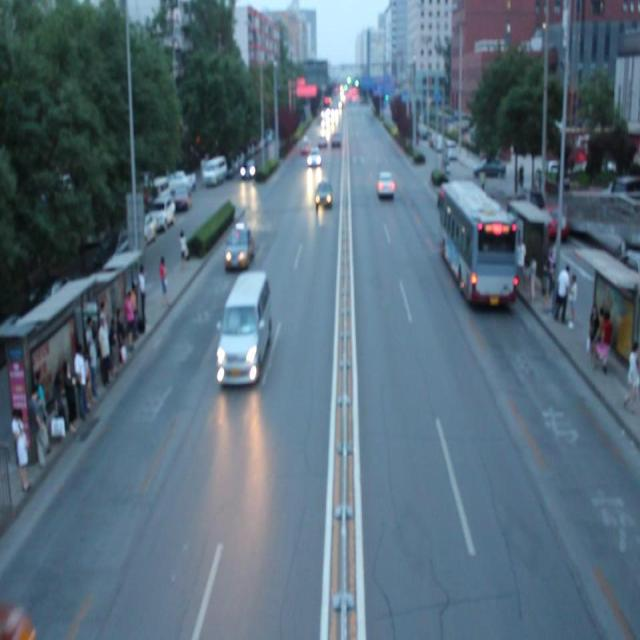car: (224, 223, 252, 270), (374, 169, 395, 200), (315, 182, 331, 208), (306, 146, 321, 168)
truck: (219, 271, 268, 390)
van: (437, 182, 516, 309)
